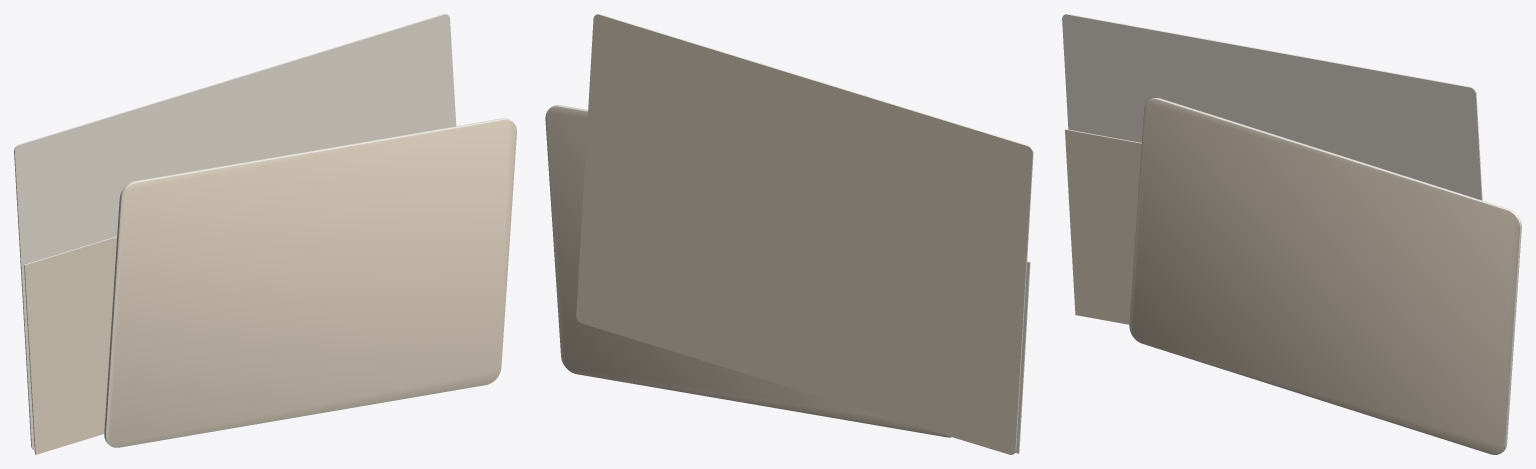
Rendered from keycard.glb.
The picture shows the model from 3 angles, left to right: view 1: azimuth 30°, elevation 25°; view 2: azimuth 150°, elevation 25°; view 3: azimuth 330°, elevation 25°; orthographic projection. The views are drawn at different scales.
Visible parts, largest first — view 1: key_card, key_sleeve_back, key_sleeve_front; view 2: key_sleeve_back, key_card, key_sleeve_front; view 3: key_card, key_sleeve_back, key_sleeve_front.
Part boxes in pixels (x1,y1,x2,y2): key_card: (104,118,516,447); key_sleeve_back: (14,14,456,450); key_sleeve_front: (24,236,116,454); key_sleeve_back: (576,14,1033,454); key_card: (545,105,951,437); key_sleeve_front: (1015,261,1030,453); key_card: (1129,98,1521,454); key_sleeve_back: (1062,14,1482,200); key_sleeve_front: (1065,129,1141,324).
Size of the model in its own units: 0.1061 by 0.0764 by 0.00413.
